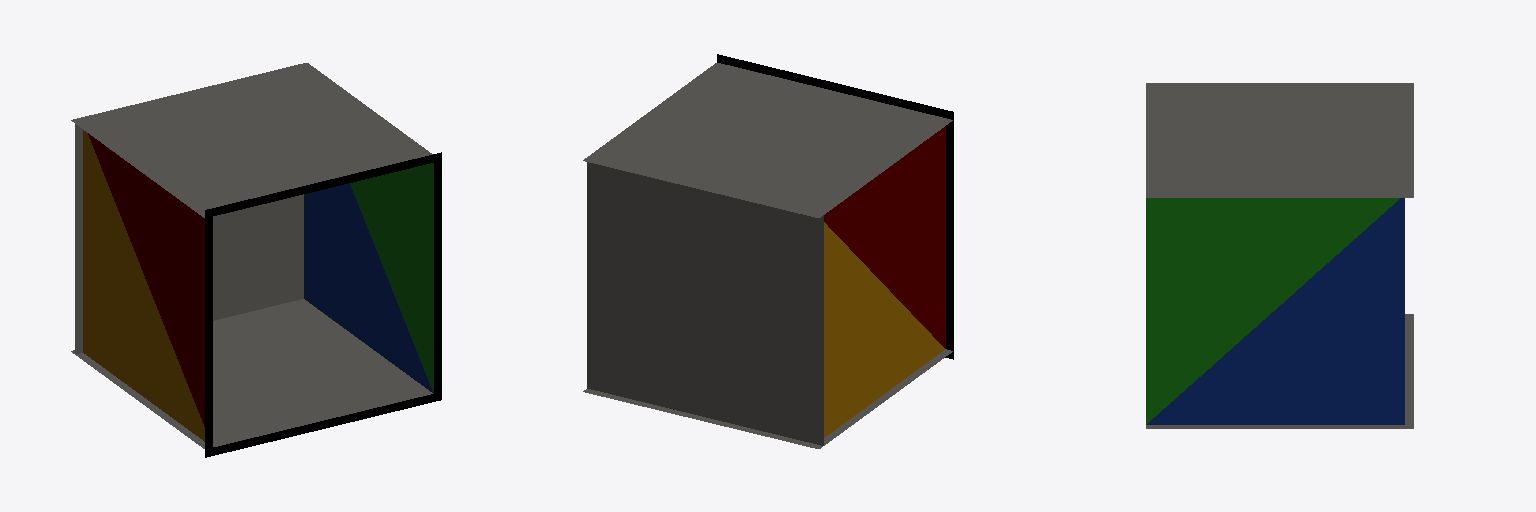
Rendered from colorbox2-single.obj.
3 renders of one model, left to right at view 1: azimuth 30°, elevation 25°; view 2: azimuth 150°, elevation 25°; view 3: azimuth 270°, elevation 25°, orthographic.
Size of the model in its own units: 5.9 by 5.9 by 5.8.